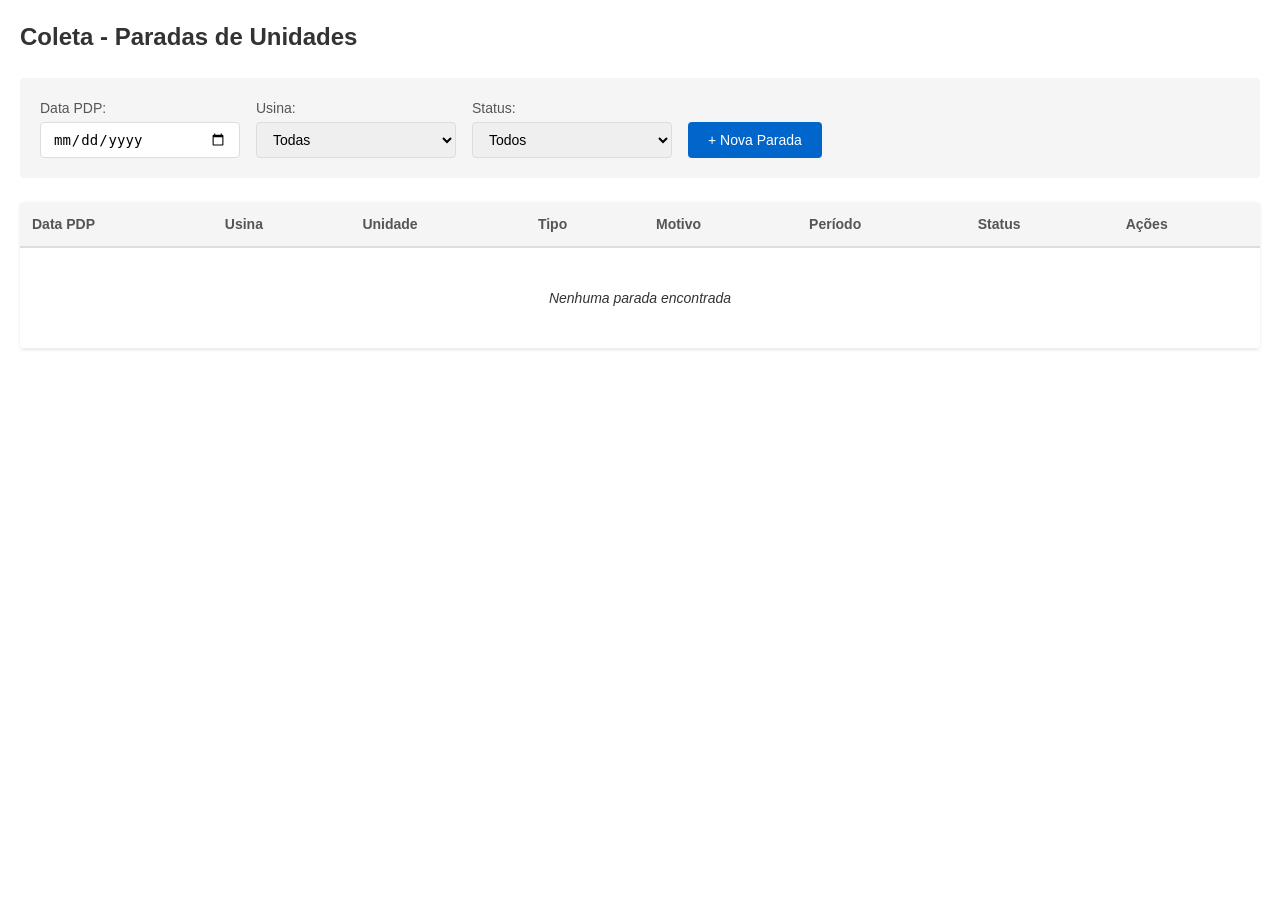
UnitOutage Component › Diálogo de formulário › deve fechar diálogo ao clicar em cancelar
Click the button with test id "btn-nova-parada": [755, 140] box [688, 122, 822, 158]
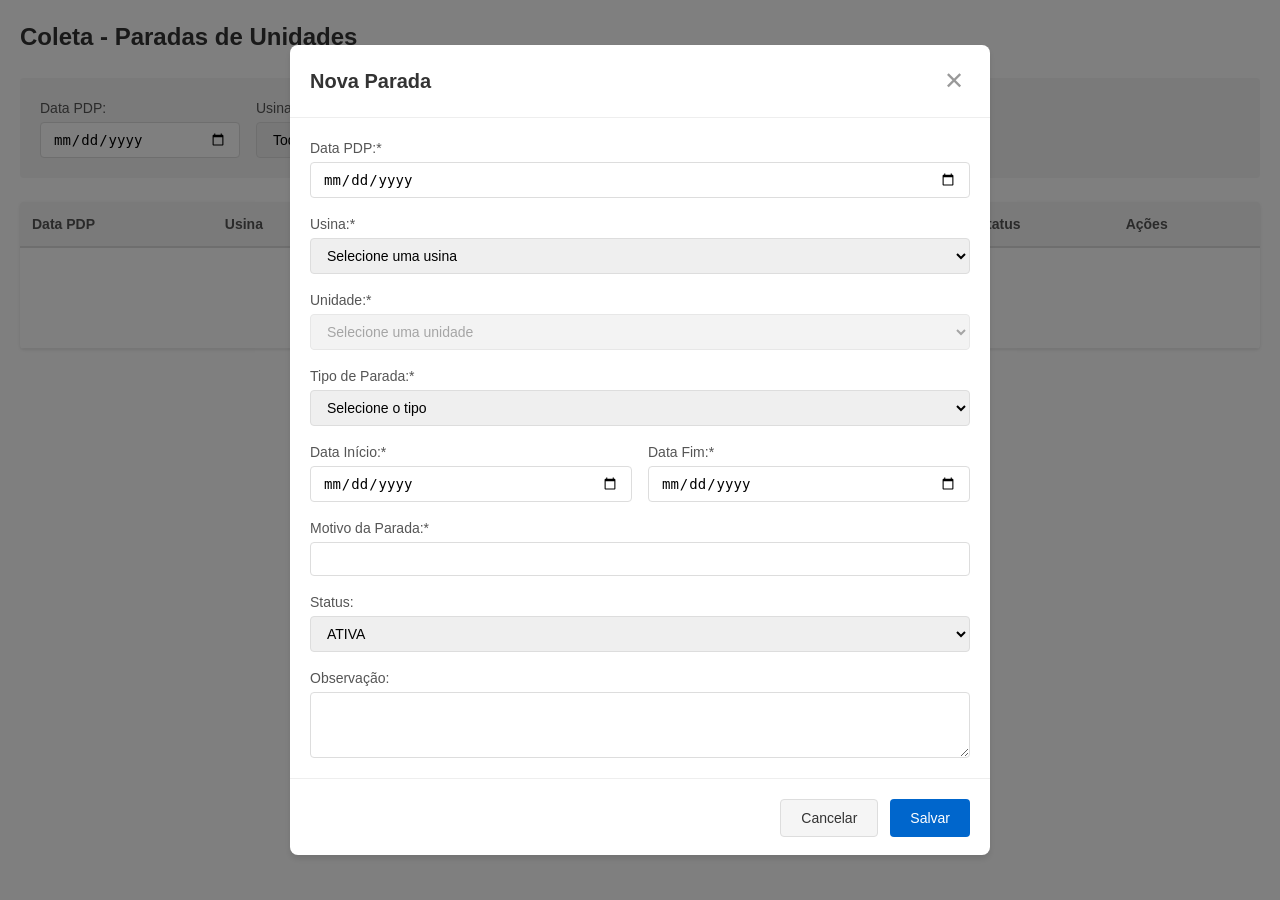
Now the element with test id "dialog-form" is shown
Click the button with test id "btn-cancel": [829, 818] box [780, 799, 878, 837]
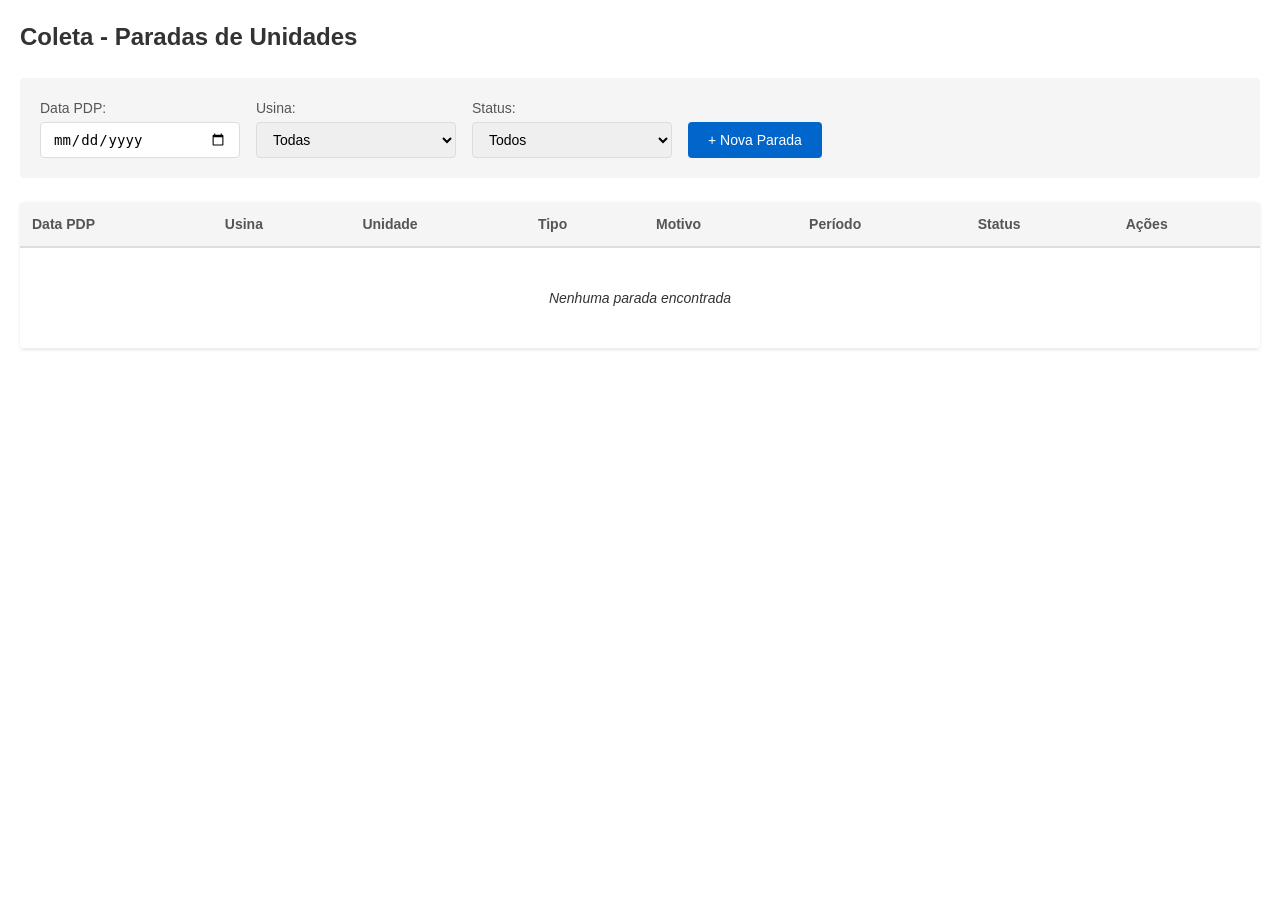
Now the element with test id "dialog-form" is gone
